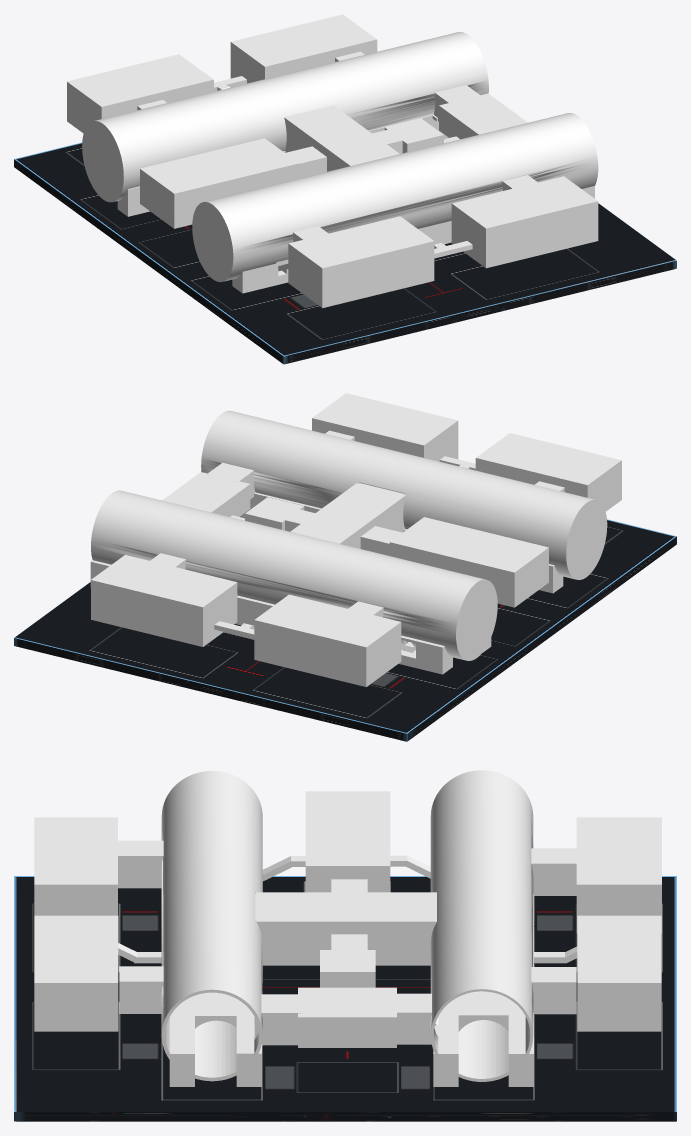
File: game.gltf
3 views of the same model, one above another, from view 1: azimuth 30°, elevation 25°; view 2: azimuth 150°, elevation 25°; view 3: azimuth 270°, elevation 25° (orthographic). The views are drawn at different scales.
Parts seen in each view (by area): view 1: CSGBox3D2, HallwayLongOne2, HallwayLongTwo2, L2Room2, L1Room2, Gatrics Chambers2, R2Room2, R1Room2, HallwayLongThree2, MainRoom2, TunelSideBarLL2, Office2 (+3 smaller); view 2: CSGBox3D2, HallwayLongTwo2, HallwayLongOne2, R2Room2, R1Room2, Gatrics Chambers2, L2Room2, L1Room2, HallwayLongThree2, MainRoom2, TunelSideBarRR2, Office2 (+3 smaller); view 3: CSGBox3D2, HallwayLongTwo2, HallwayLongOne2, HallwayLongThree2, R1Room2, L1Room2, R2Room2, L2Room2, Gatrics Chambers2, MainRoom2, HallwaySix2, HallwayEight2 (+13 smaller).
Boxes of the visible parts, x1,y1,x2,y2 form: CSGBox3D2: [14, 142, 676, 364]; HallwayLongOne2: [192, 113, 598, 282]; HallwayLongTwo2: [82, 32, 488, 202]; L2Room2: [288, 216, 434, 308]; L1Room2: [451, 176, 598, 268]; Gatrics Chambers2: [140, 138, 298, 228]; R2Room2: [67, 54, 213, 133]; R1Room2: [230, 14, 377, 83]; HallwayLongThree2: [284, 105, 399, 171]; MainRoom2: [439, 93, 527, 139]; TunelSideBarLL2: [232, 186, 594, 293]; Office2: [384, 118, 443, 153]; CSGBox3D2: [14, 519, 676, 741]; HallwayLongTwo2: [91, 490, 497, 660]; HallwayLongOne2: [201, 410, 607, 579]; R2Room2: [254, 594, 401, 686]; R1Room2: [91, 555, 237, 646]; Gatrics Chambers2: [389, 517, 548, 607]; L2Room2: [475, 433, 621, 511]; L1Room2: [312, 393, 458, 461]; HallwayLongThree2: [290, 483, 405, 548]; MainRoom2: [162, 472, 250, 516]; TunelSideBarRR2: [90, 560, 452, 674]; Office2: [245, 497, 304, 530]; CSGBox3D2: [14, 876, 676, 1121]; HallwayLongTwo2: [430, 770, 533, 1081]; HallwayLongOne2: [161, 771, 262, 1081]; HallwayLongThree2: [255, 892, 436, 965]; R1Room2: [577, 915, 661, 1031]; L1Room2: [34, 915, 118, 1031]; R2Room2: [576, 817, 661, 933]; L2Room2: [34, 817, 117, 915]; Gatrics Chambers2: [305, 791, 390, 892]; MainRoom2: [298, 987, 396, 1047]; HallwaySix2: [118, 840, 163, 888]; HallwayEight2: [531, 848, 576, 895].
Bounding box in the file's own units: 51.14 × 12.3 × 60.78.
51 materials, 1 textured.
